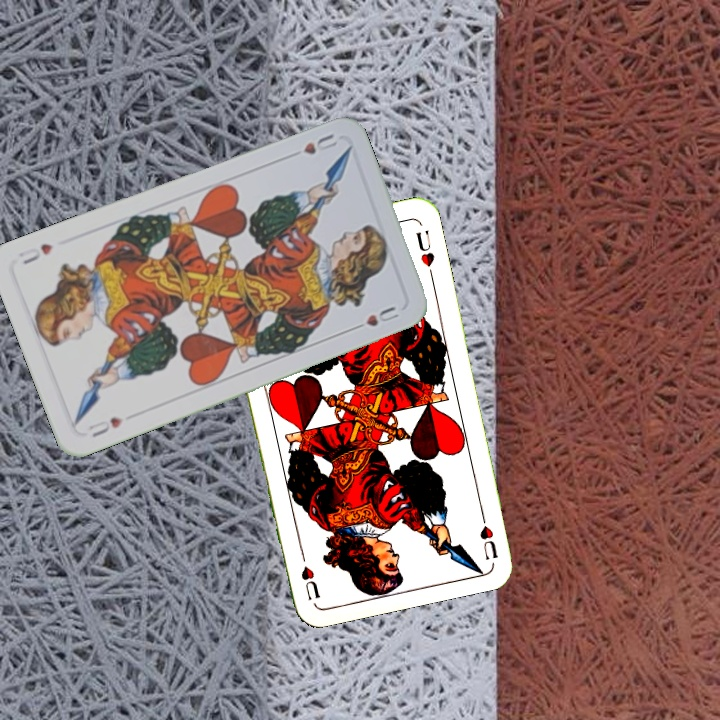HU: (475, 505, 500, 562), (299, 129, 340, 157), (84, 413, 126, 440)
